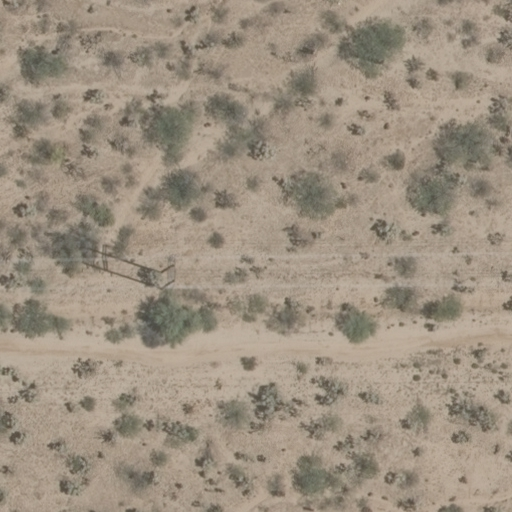DT: (148, 248, 186, 294)
